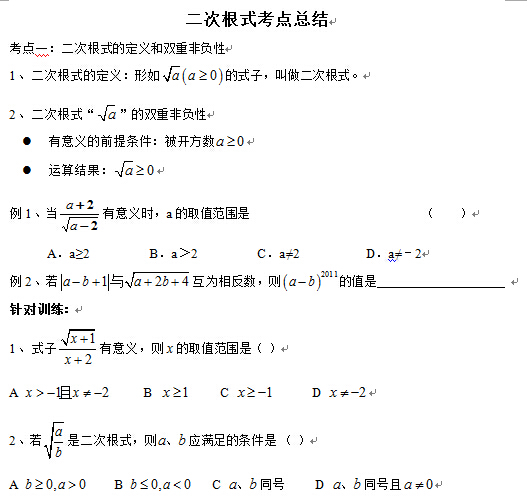division: (58, 210, 101, 222), (58, 344, 100, 353), (53, 438, 65, 444)
sqrt: (124, 268, 191, 288), (43, 417, 66, 460), (58, 214, 104, 234), (64, 324, 97, 347), (98, 101, 121, 125), (162, 61, 183, 83), (115, 158, 136, 177)
